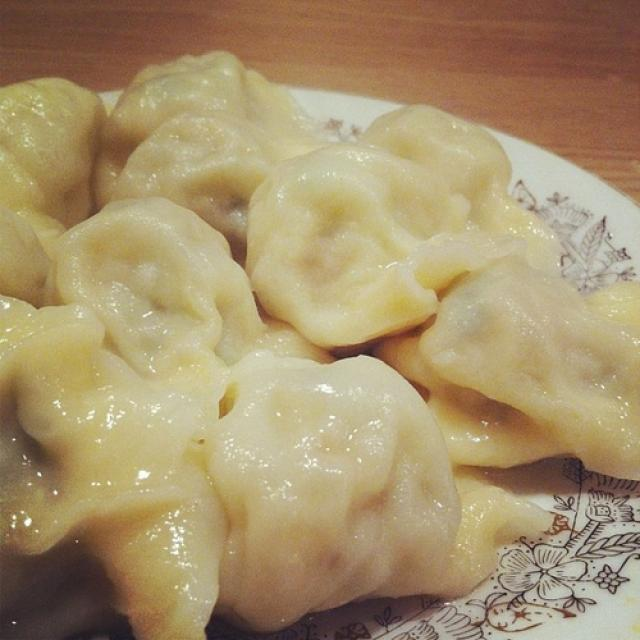带馅早点: (4, 34, 617, 616)
